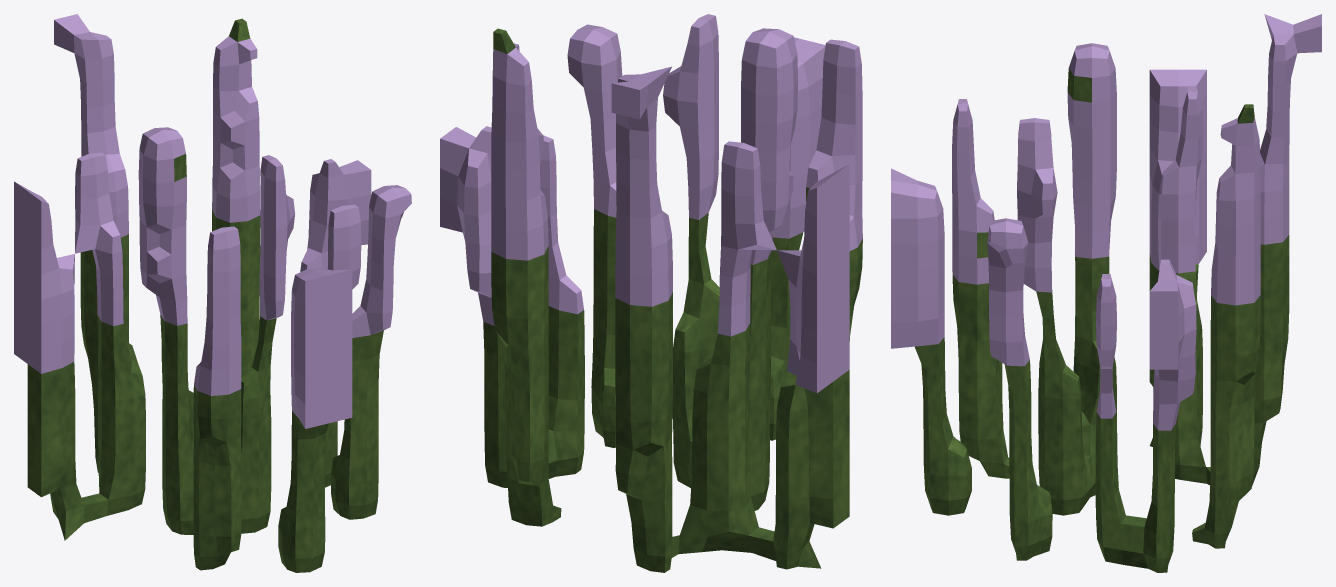
The model's file is flora_flower_purple.glb.
3 views of the same model, side by side, from view 1: azimuth 30°, elevation 25°; view 2: azimuth 150°, elevation 25°; view 3: azimuth 270°, elevation 25° (orthographic). The views are drawn at different scales.
Parts seen in each view (by area): view 1: wilds_flora_flower_purple; view 2: wilds_flora_flower_purple; view 3: wilds_flora_flower_purple.
Part boxes in pixels (x1,y1,x2,y2): wilds_flora_flower_purple: (14, 14, 411, 572); wilds_flora_flower_purple: (440, 14, 862, 572); wilds_flora_flower_purple: (891, 14, 1321, 572).
Bounding box in the file's own units: 0.4375 × 0.5625 × 0.4688.
Materials: 2 (1 with a texture image).
